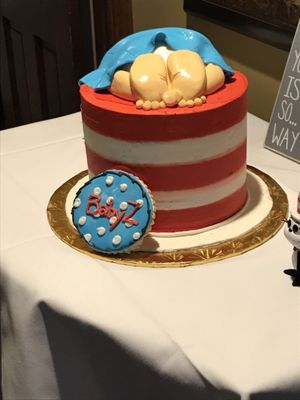curry: (0, 106, 299, 400)
sushi: (78, 28, 251, 247)
